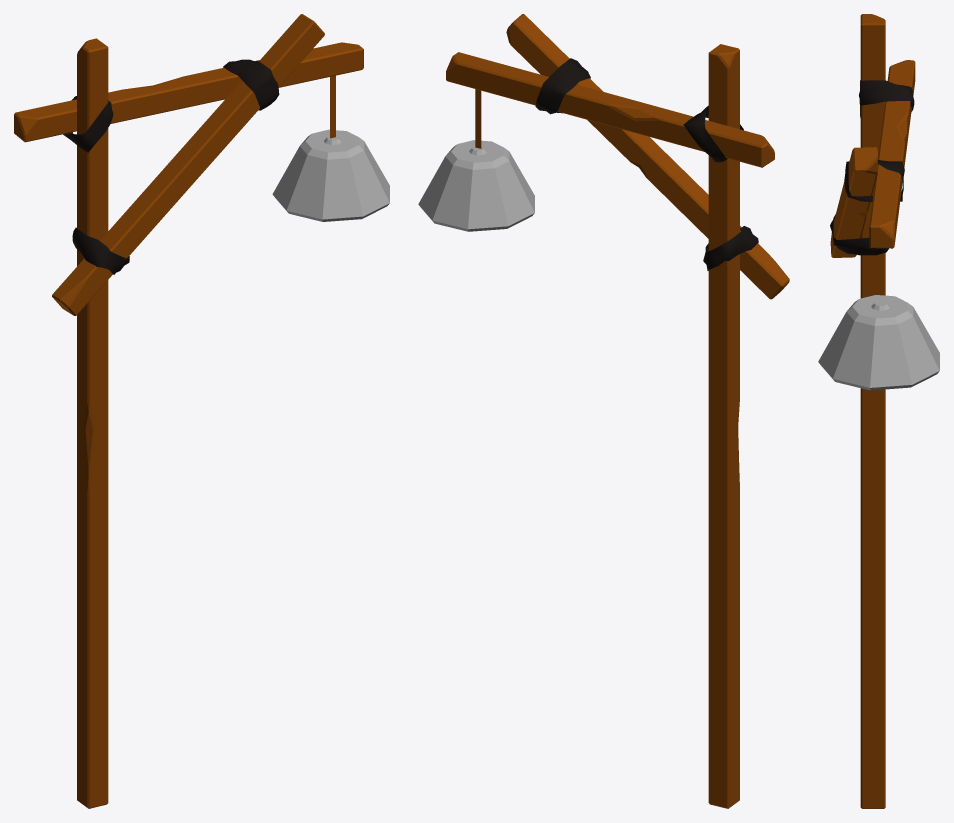
The model's file is lampose1.fbx.
3 renders of one model, left to right at view 1: azimuth 30°, elevation 25°; view 2: azimuth 150°, elevation 25°; view 3: azimuth 270°, elevation 25°, orthographic. The views are drawn at different scales.
Parts seen in each view (by area): view 1: Woods.001, Case & bulb.001, Straps.001; view 2: Woods.001, Case & bulb.001, Straps.001; view 3: Woods.001, Case & bulb.001, Straps.001.
Boxes of the visible parts, x1,y1,x2,y2 form: Woods.001: [14, 14, 363, 808]; Case & bulb.001: [272, 75, 389, 221]; Straps.001: [63, 59, 279, 274]; Woods.001: [446, 14, 789, 808]; Case & bulb.001: [418, 89, 534, 231]; Straps.001: [535, 58, 758, 270]; Woods.001: [830, 14, 915, 808]; Case & bulb.001: [818, 295, 939, 390]; Straps.001: [830, 80, 914, 255].
Size of the model in its own units: 247 by 503 by 70.7.
